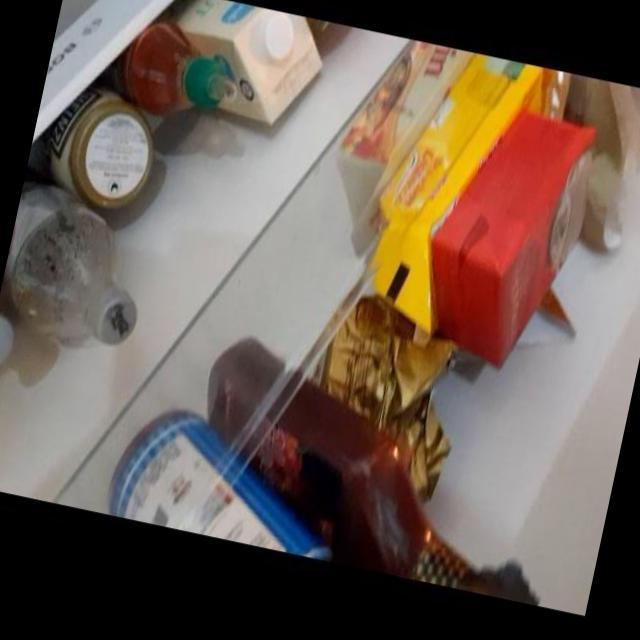Mantequilla: (325, 30, 536, 303)
